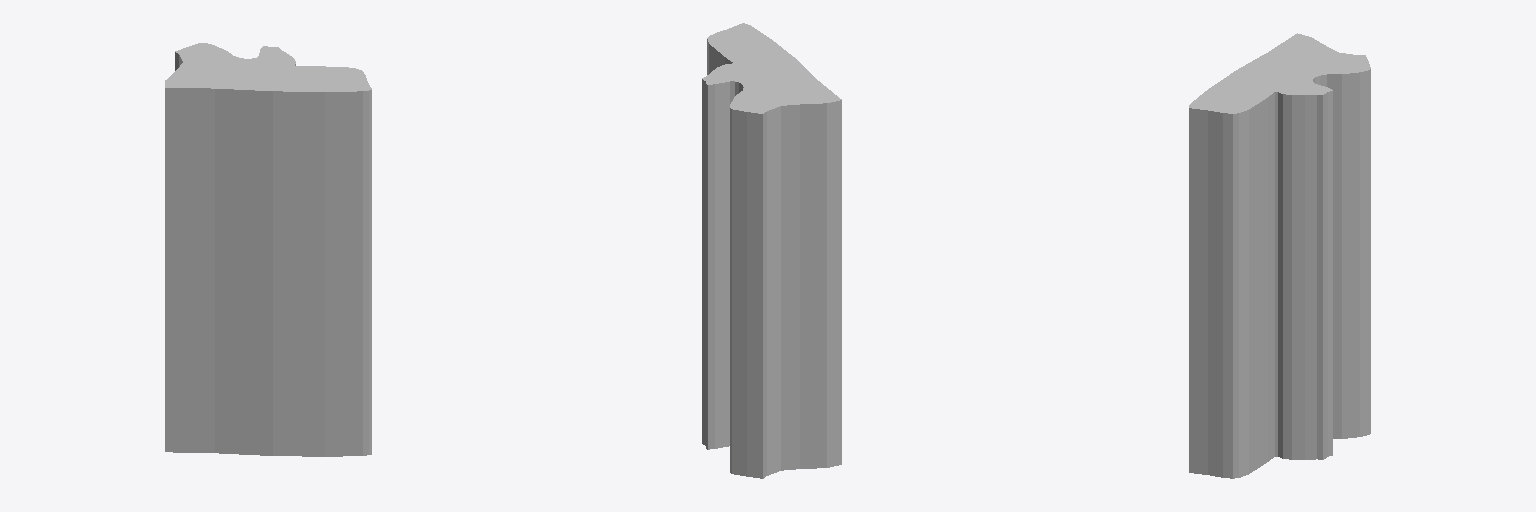
The picture shows the model from 3 angles: view 1: azimuth 30°, elevation 25°; view 2: azimuth 150°, elevation 25°; view 3: azimuth 270°, elevation 25°; orthographic projection.
Parts seen in each view (by area): view 1: LR.002_CUCurve.1859; view 2: LR.002_CUCurve.1859; view 3: LR.002_CUCurve.1859.
Part boxes in pixels (bbox=[...]): LR.002_CUCurve.1859: bbox=[165, 43, 371, 456]; LR.002_CUCurve.1859: bbox=[702, 23, 841, 478]; LR.002_CUCurve.1859: bbox=[1189, 33, 1370, 478].
Size of the model in its own units: 0.0237 by 0.05 by 0.0227.